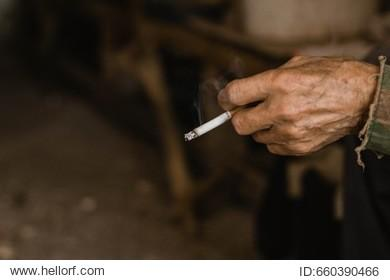Cigarette: (185, 104, 246, 140)
